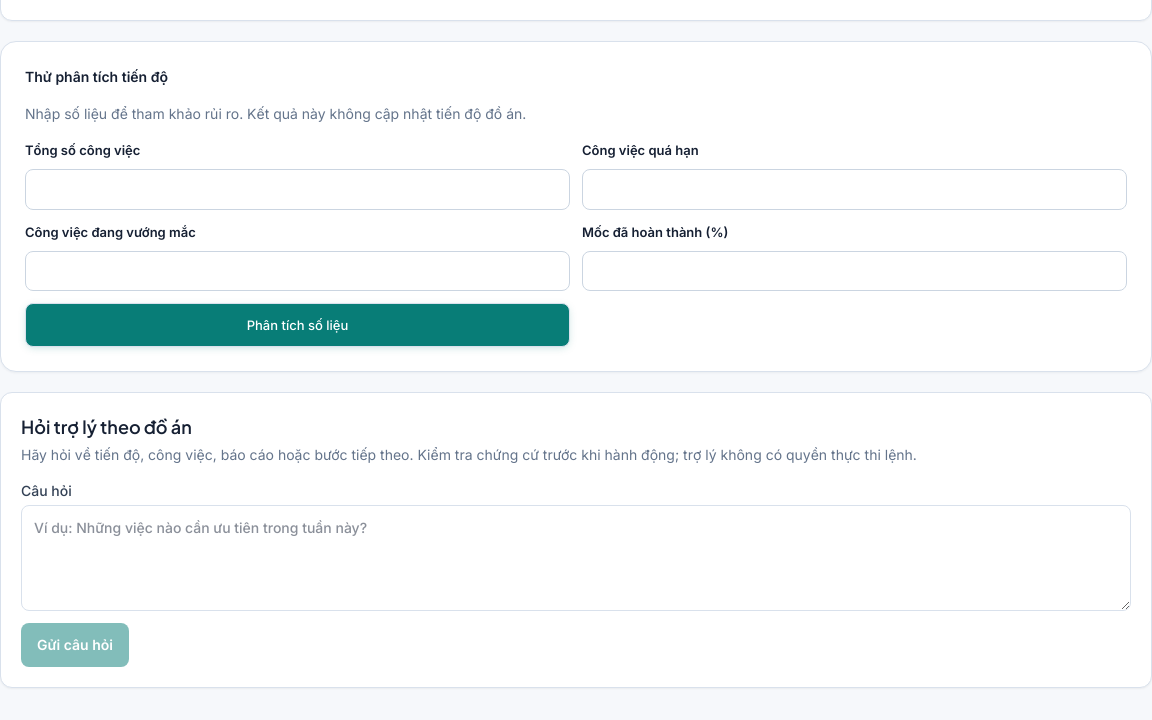
Test case: AI advisory components › keeps the assistant advisory-only and surfaces a rate-limit failure
The image size is (1152, 720).
(page scrolled)
Step 1. Type "Việc nào cần ưu tiên?" into the text box labelled "Câu hỏi" → (576, 558), box top-left (21, 505), bottom-right (1131, 611)
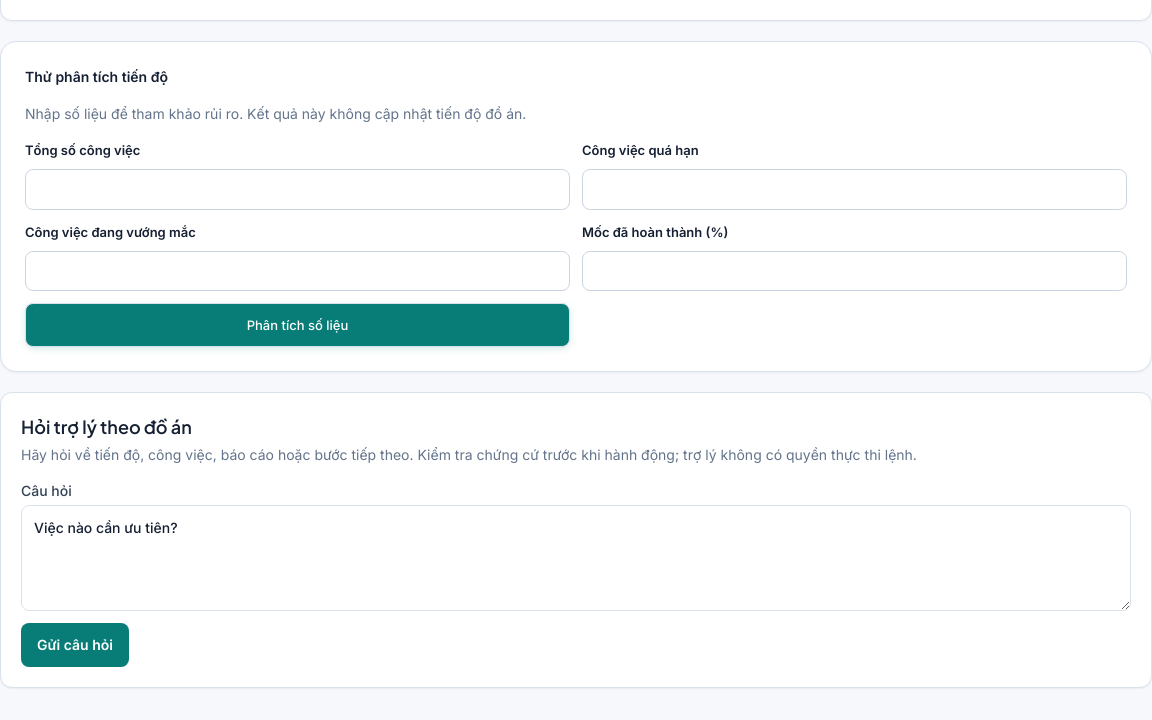
Step 2. Click the button "Gửi câu hỏi" → (75, 645), box top-left (21, 623), bottom-right (129, 667)
(page scrolled)
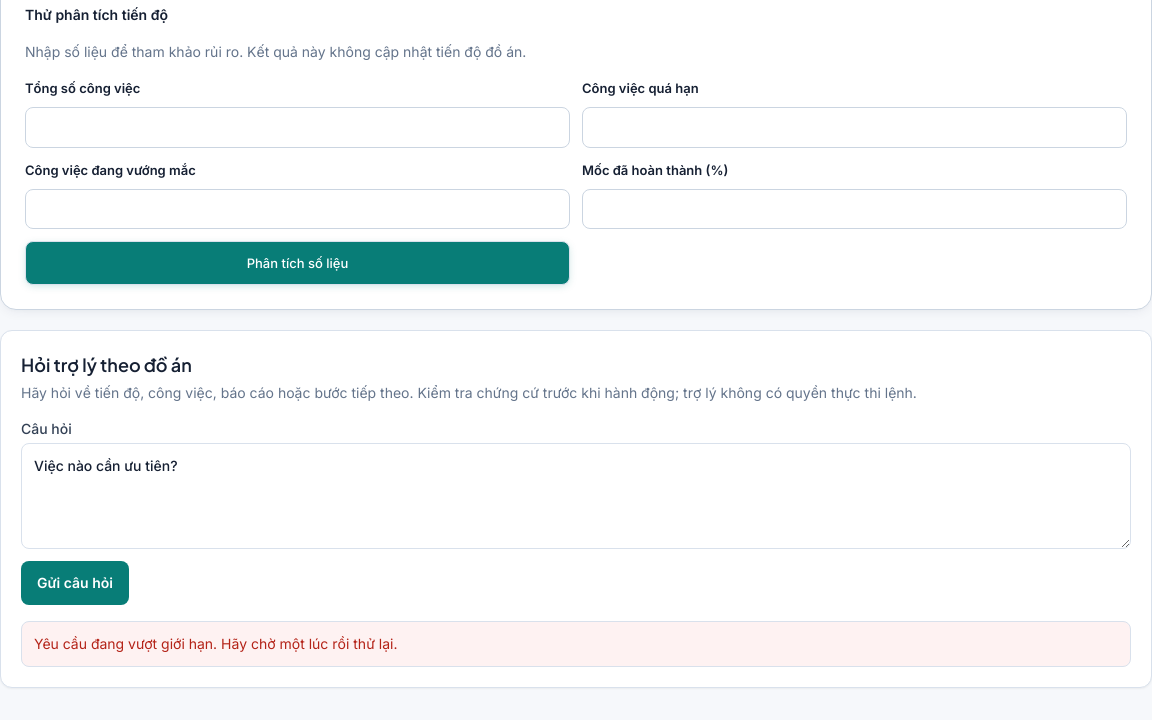
Now the message shows "vượt giới hạn", box top-left (34, 635), bottom-right (398, 652)
